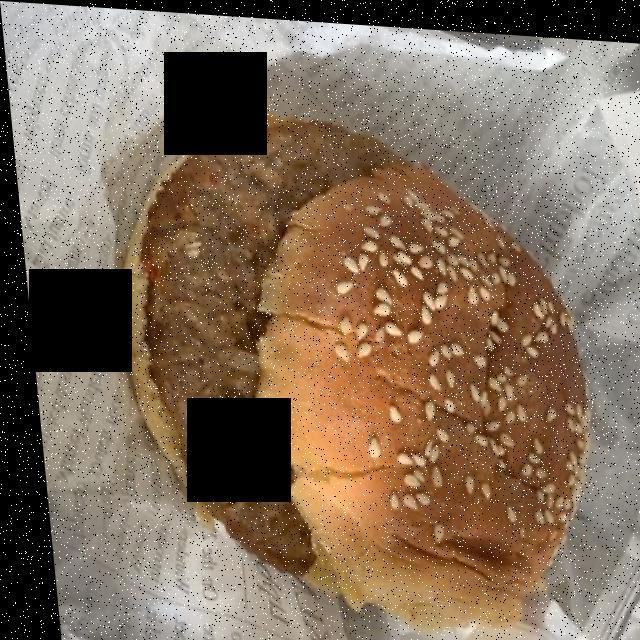hamburger: (91, 85, 561, 611)
